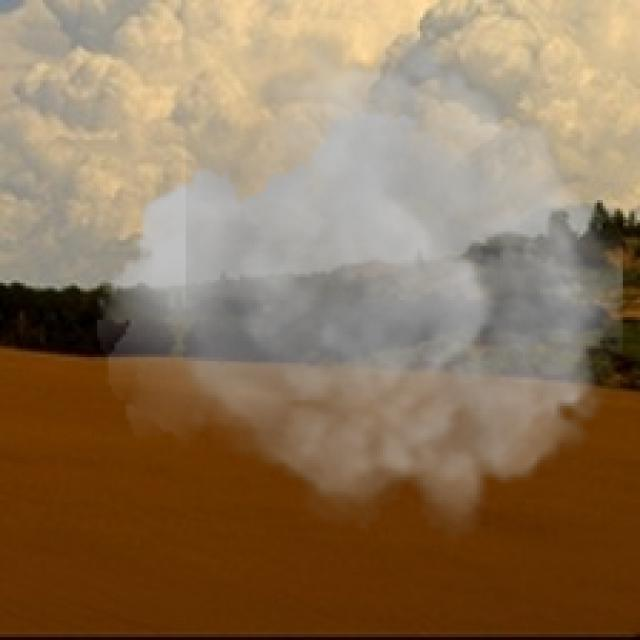Smoke: (97, 14, 623, 540)
